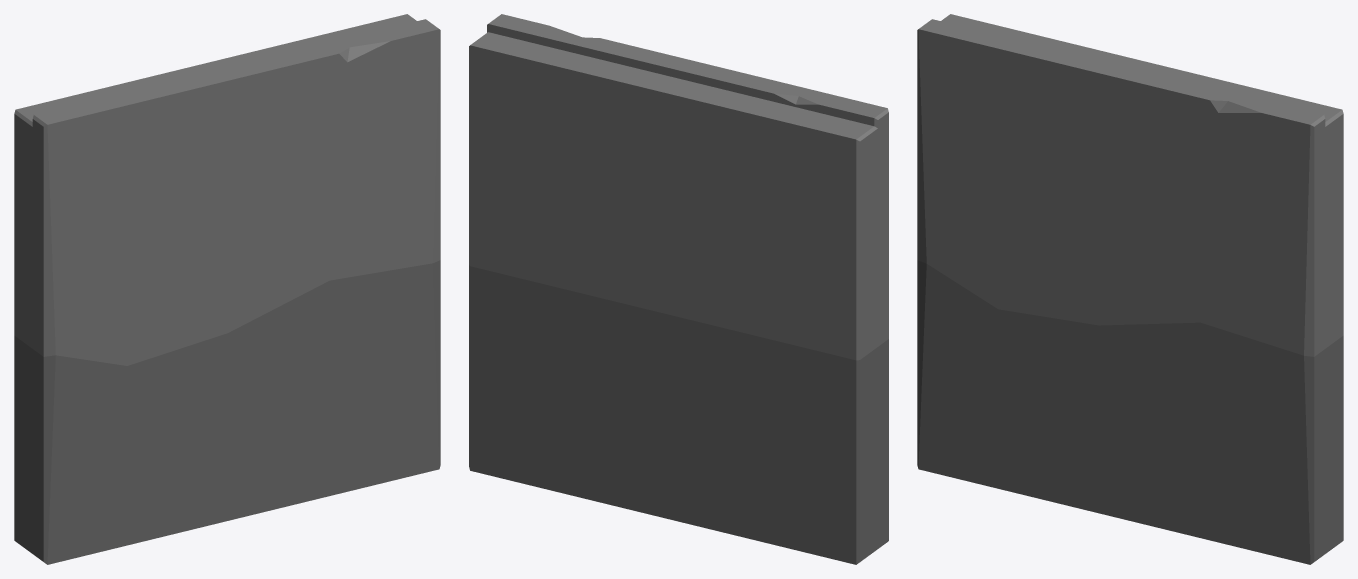
File: SM_Envr_Seawall_01.fbx
The picture shows the model from 3 angles, left to right: view 1: azimuth 30°, elevation 25°; view 2: azimuth 150°, elevation 25°; view 3: azimuth 330°, elevation 25°; orthographic projection.
Parts seen in each view (by area): view 1: SM_Envr_Seawall_01; view 2: SM_Envr_Seawall_01; view 3: SM_Envr_Seawall_01.
Boxes of the visible parts, bbox=[...] form: SM_Envr_Seawall_01: bbox=[14, 14, 440, 564]; SM_Envr_Seawall_01: bbox=[469, 14, 888, 564]; SM_Envr_Seawall_01: bbox=[917, 14, 1343, 564].
Bounding box in the file's own units: 500 × 530 × 70.
